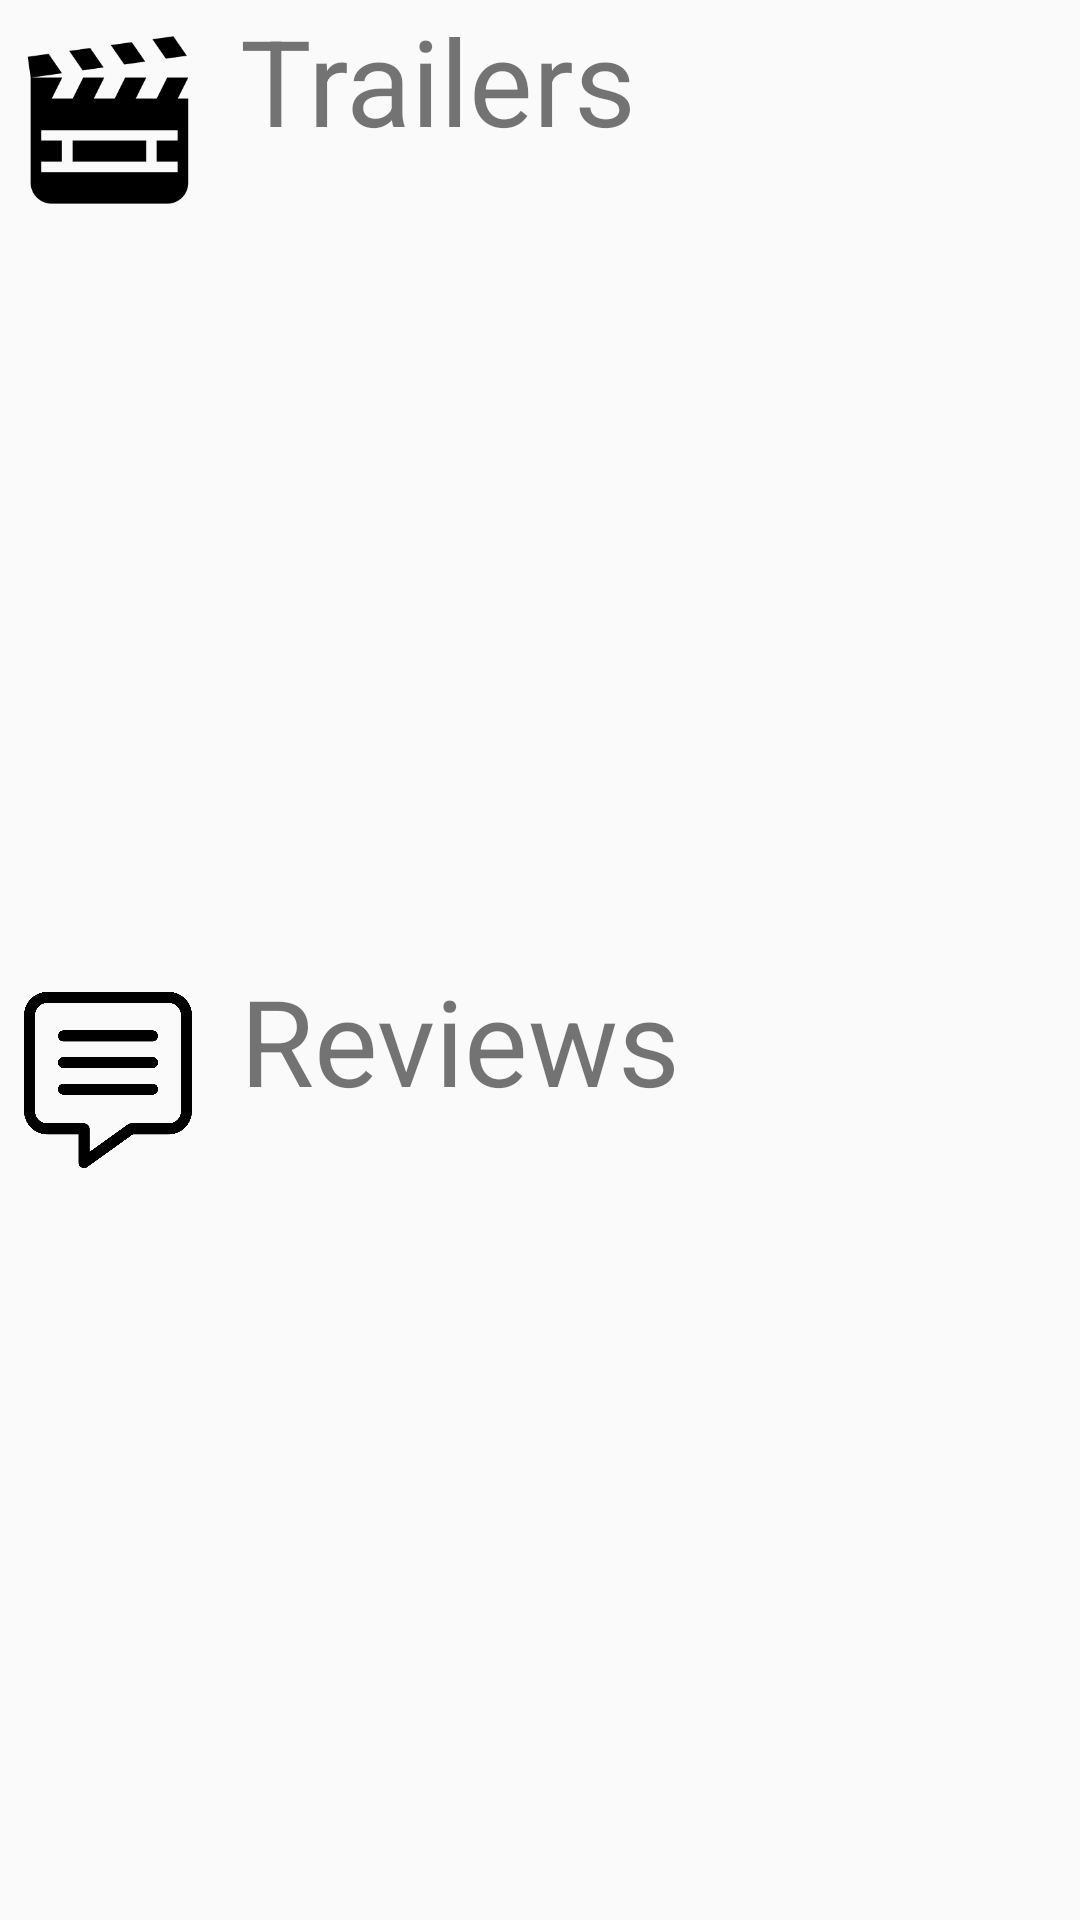

Icon bounding boxes for this 1080px×1920px phone screenshot, format [x1,y1,x2,y2]:
movie: [27,36,189,204]
